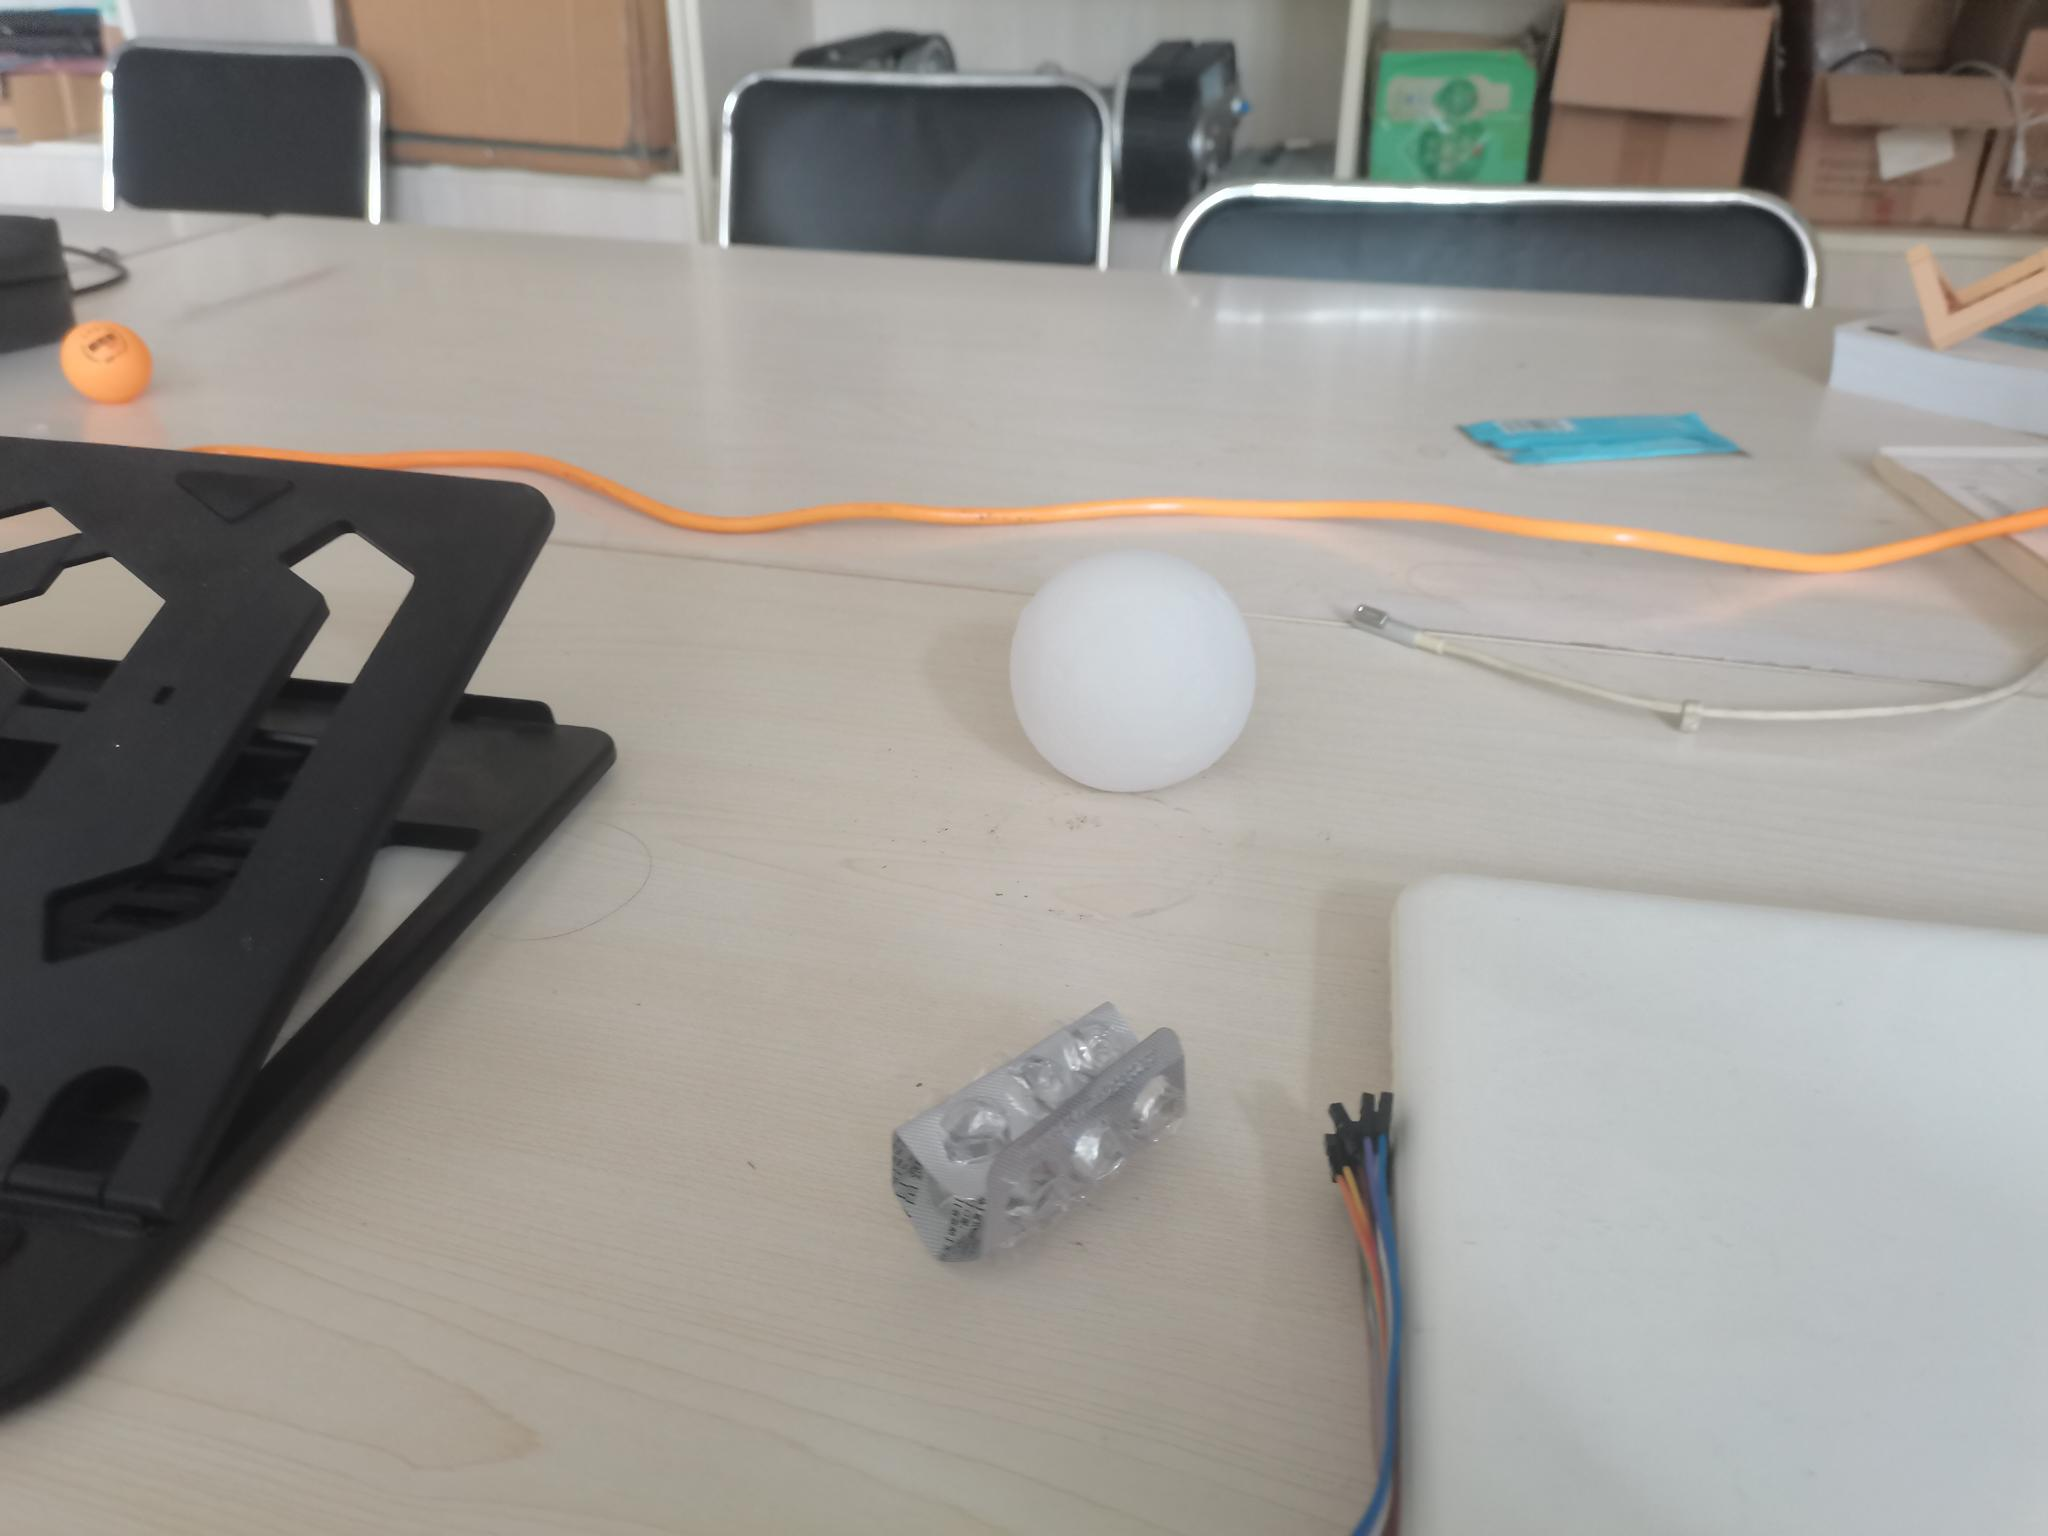ball: (56, 313, 158, 408)
